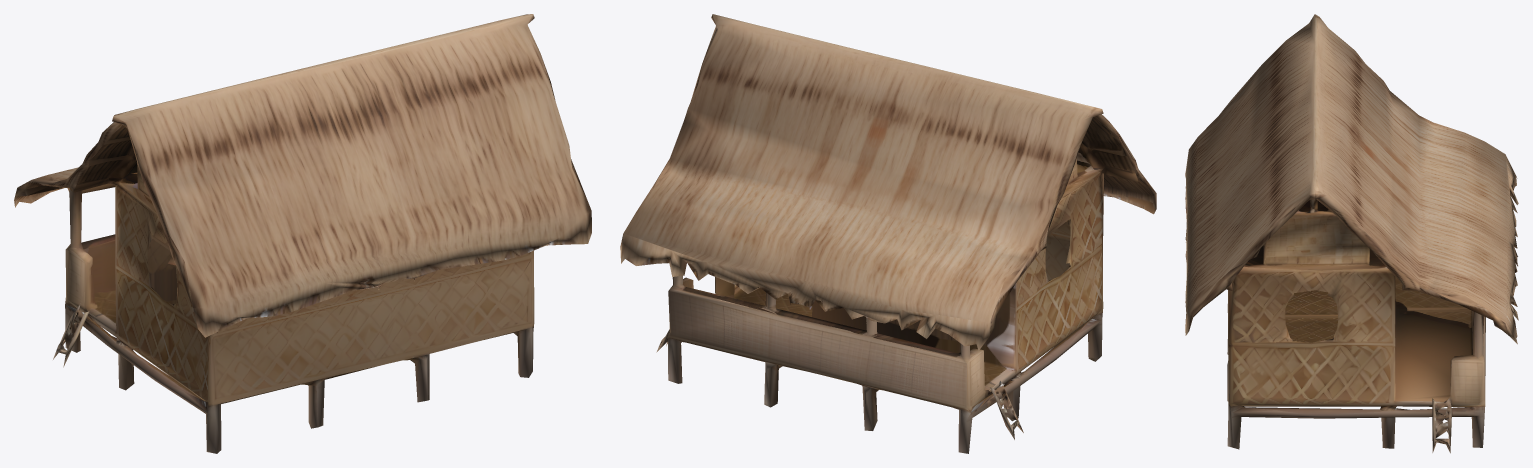
The model's file is kubo na (1).fbx.
3 views of the same model, side by side, from view 1: azimuth 30°, elevation 25°; view 2: azimuth 150°, elevation 25°; view 3: azimuth 270°, elevation 25° (orthographic). The views are drawn at different scales.
Visible parts, largest first — view 1: model; view 2: model; view 3: model.
Boxes of the visible parts, x1,y1,x2,y2 form: model: [14, 14, 591, 453]; model: [620, 14, 1156, 453]; model: [1185, 14, 1518, 453].
Bounding box in the file's own units: 3855 × 2759 × 3002.
Materials: 1 (1 with a texture image).
